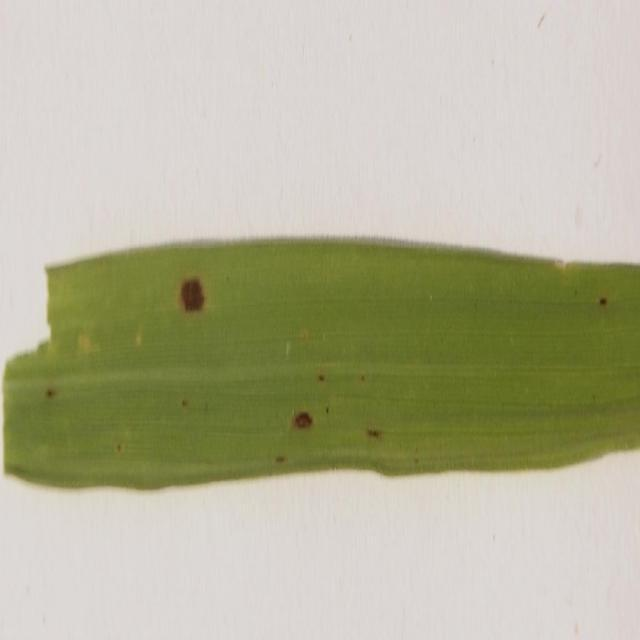Rice_Brownspot: (168, 246, 220, 334), (280, 380, 324, 452), (36, 354, 66, 436), (361, 406, 389, 456), (590, 272, 614, 324)
